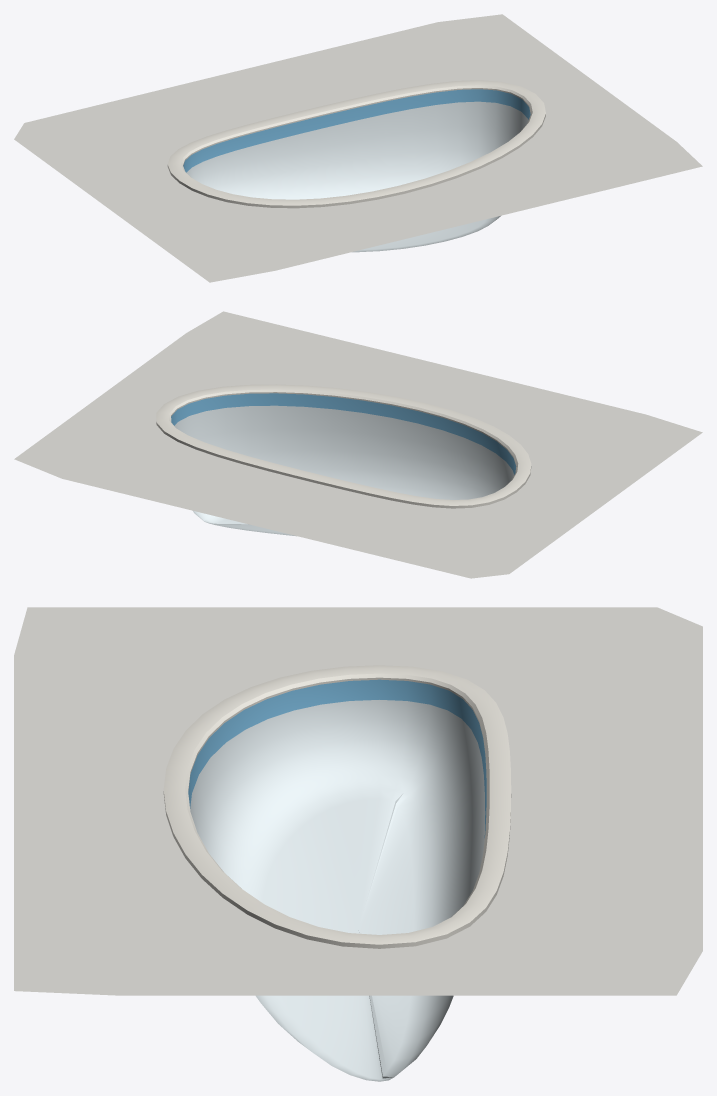
Rendered from drained_kidney_pool.glb.
3 renders of one model, top to bottom at view 1: azimuth 30°, elevation 25°; view 2: azimuth 150°, elevation 25°; view 3: azimuth 270°, elevation 25°, orthographic. The views are drawn at different scales.
Visible parts, largest first — view 1: body; view 2: body; view 3: body.
Part boxes in pixels (box(x1,y1,x2,y2)): body: box(14, 14, 702, 282); body: box(14, 311, 702, 578); body: box(14, 607, 702, 1081).
Size of the model in its own units: 12 by 2.56 by 9.
